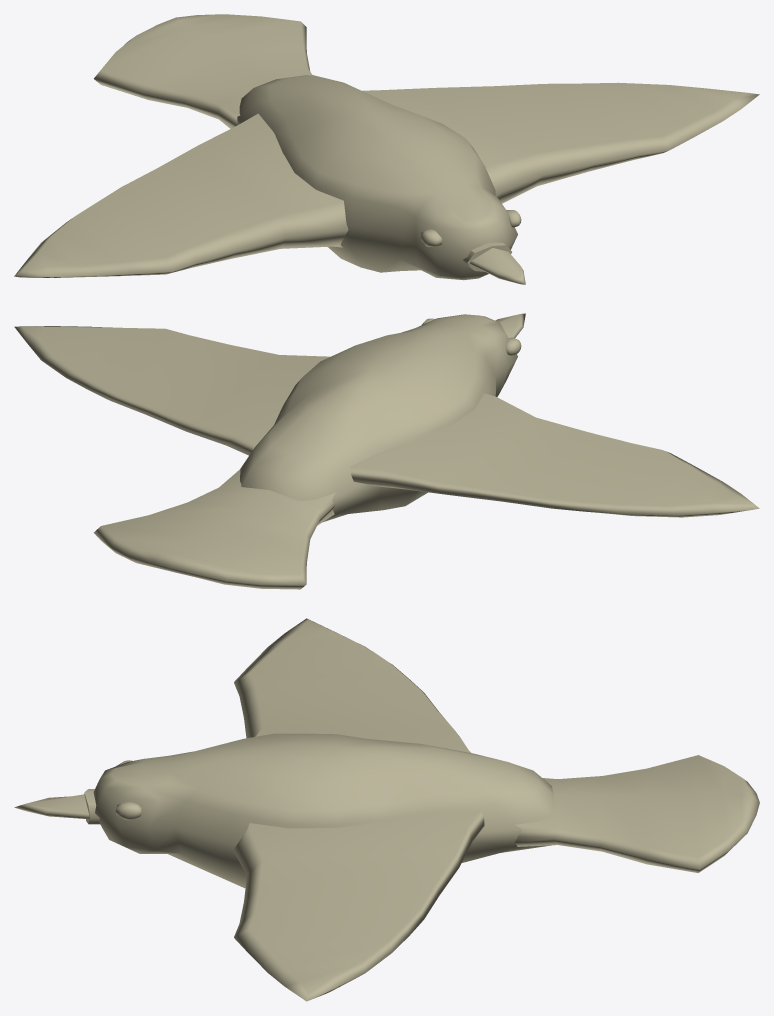
File: Bidge.fbx
3 renders of one model, top to bottom at view 1: azimuth 30°, elevation 25°; view 2: azimuth 150°, elevation 25°; view 3: azimuth 270°, elevation 25°, orthographic. The views are drawn at different scales.
Visible parts, largest first — view 1: Bidge; view 2: Bidge; view 3: Bidge.
Part boxes in pixels (x1,y1,x2,y2): Bidge: (14, 14, 759, 284); Bidge: (14, 313, 759, 589); Bidge: (14, 618, 759, 1001).
Bounding box in the file's own units: 59.88 × 9.68 × 49.26.
